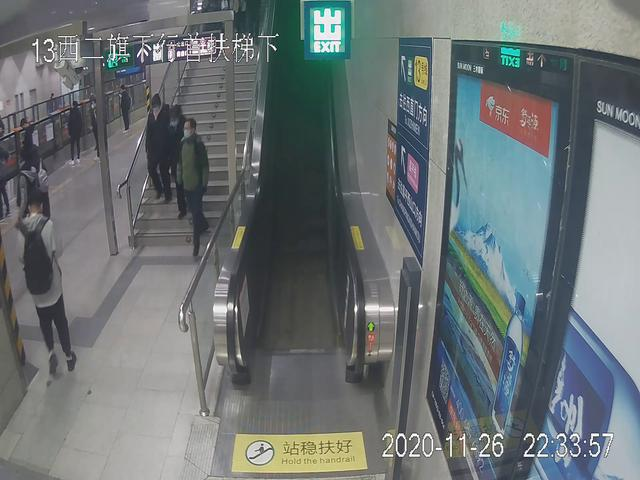person: (17, 192, 74, 373), (175, 118, 212, 255), (15, 119, 43, 179), (67, 100, 84, 167), (118, 83, 131, 135)
